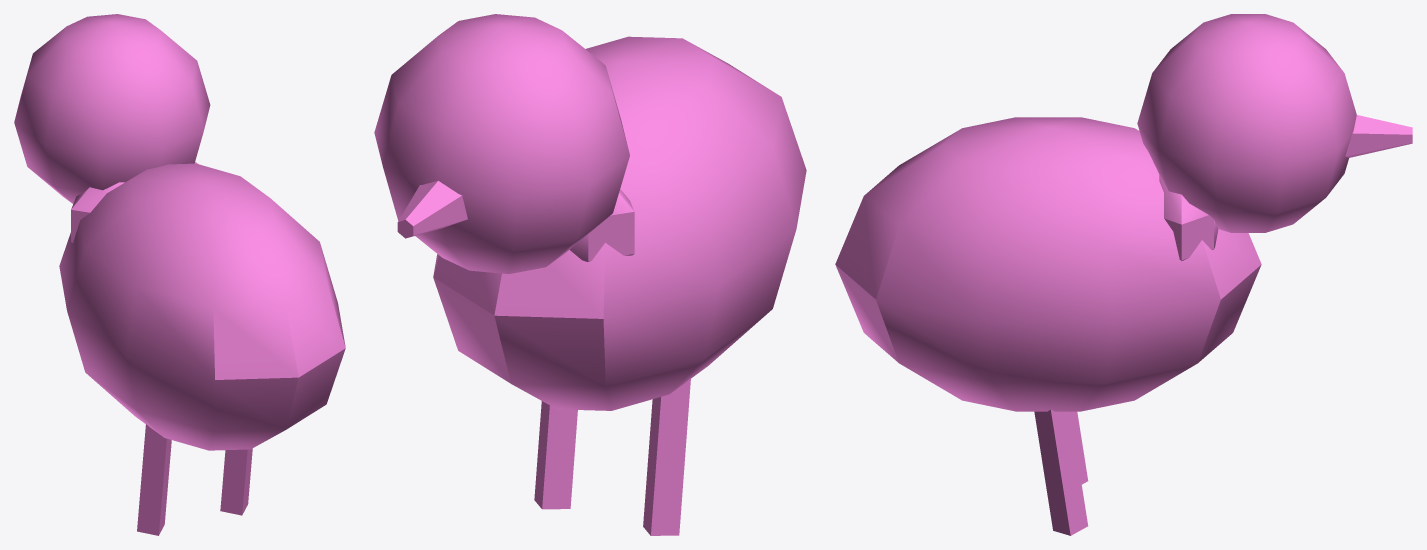
Rendered from Bird_Pigeon.fbx.
3 views of the same model, side by side, from view 1: azimuth 30°, elevation 25°; view 2: azimuth 150°, elevation 25°; view 3: azimuth 270°, elevation 25° (orthographic). The views are drawn at different scales.
Visible parts, largest first — view 1: Pigeon; view 2: Pigeon; view 3: Pigeon.
Part boxes in pixels (box(x1,y1,x2,y2)): Pigeon: box(14, 14, 345, 535); Pigeon: box(374, 14, 806, 535); Pigeon: box(835, 14, 1412, 535).
Bounding box in the file's own units: 0.6087 × 1.21 × 1.3.
Materials: 1 (1 with a texture image).
